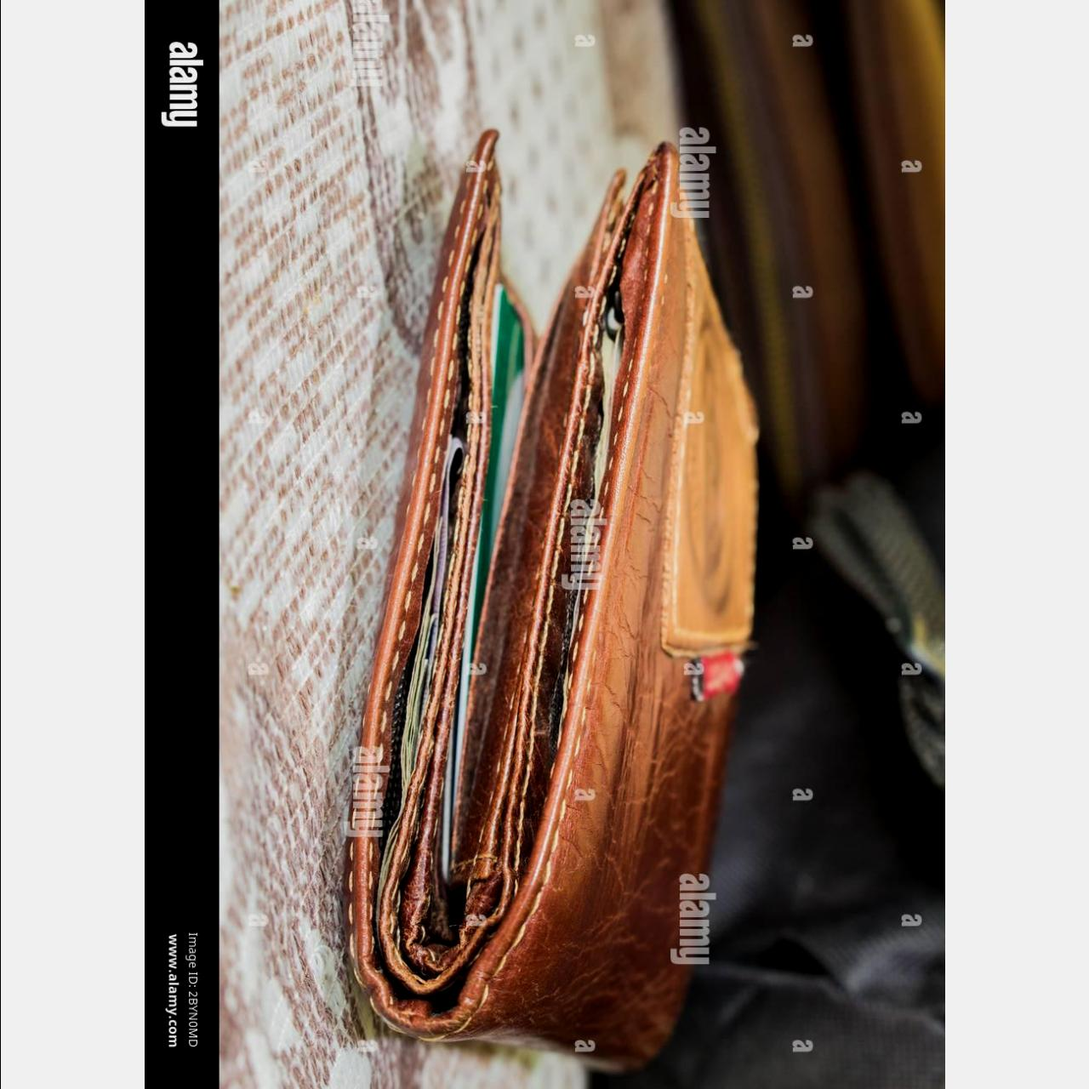wallet: (311, 111, 793, 1089)
